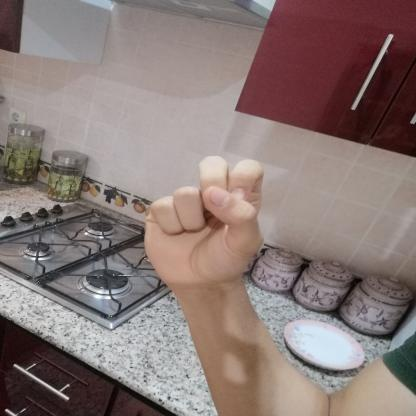QAAF: (129, 146, 280, 300)
